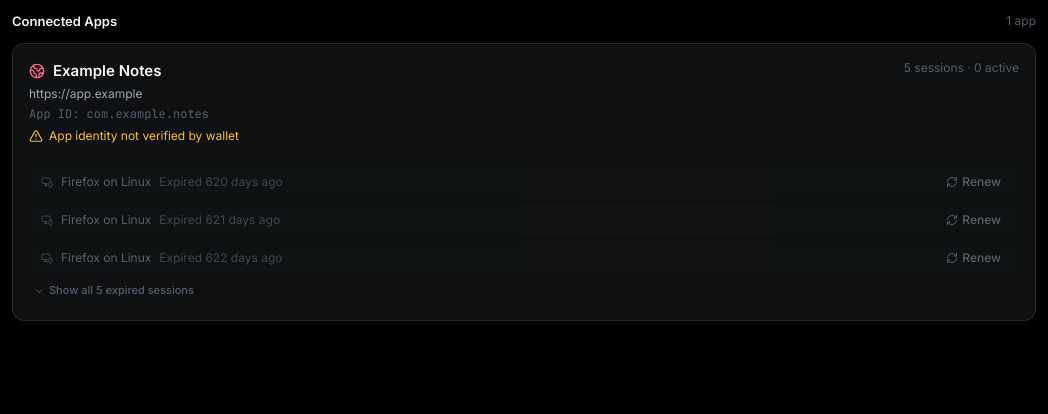
Test: PermissionsTab › bounds expired session rows per app with an expander
This screenshot has width=1048, height=414.
Expected: the number of list items is 3, [29, 166, 1019, 198]; [29, 204, 1019, 236]; [29, 242, 1019, 274]
Click the button "Show all 5 expired sessions".
click(113, 291)  # box [29, 282, 198, 300]
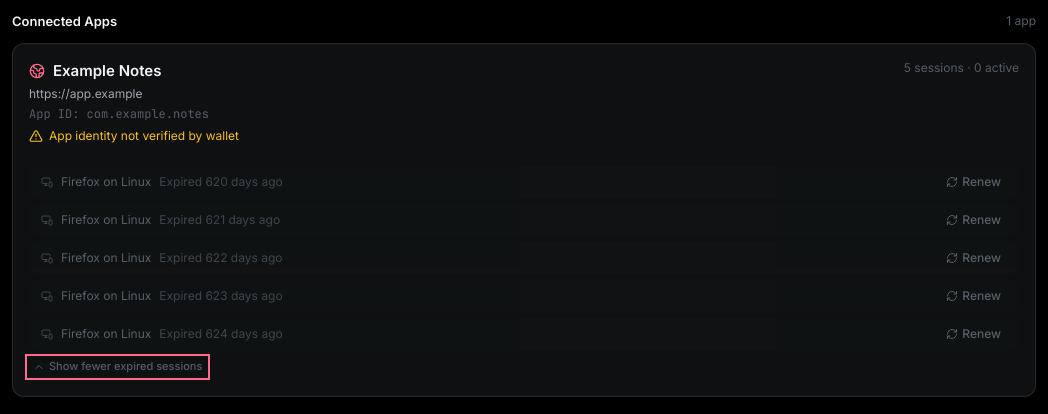
Result: the number of list items is 5 at [29, 166, 1019, 198]; [29, 204, 1019, 236]; [29, 242, 1019, 274]; [29, 280, 1019, 312]; [29, 318, 1019, 350]
Click the button "Show fewer expired sessions".
click(118, 367)  # box [29, 358, 206, 376]
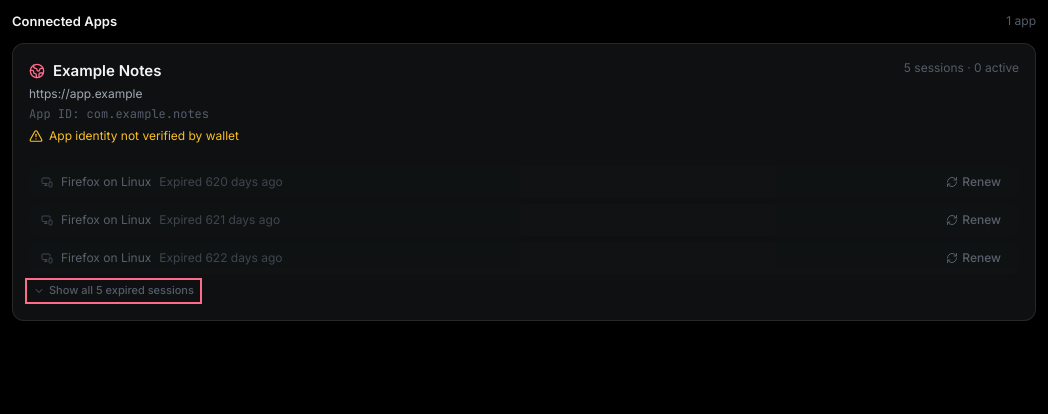
Result: the number of list items is 3 at [29, 166, 1019, 198]; [29, 204, 1019, 236]; [29, 242, 1019, 274]
